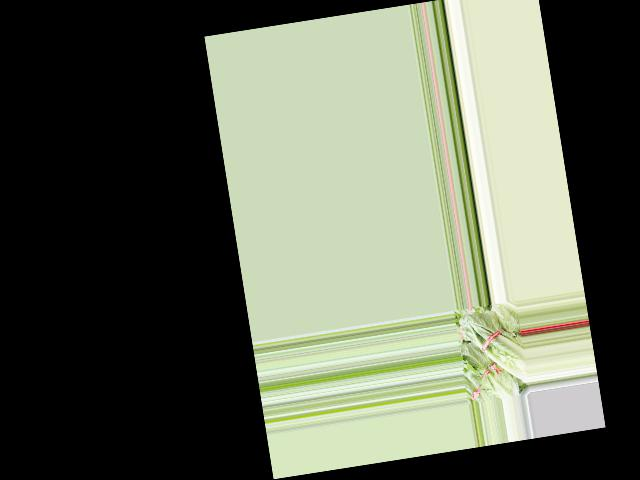lettuce: (457, 304, 529, 390)
